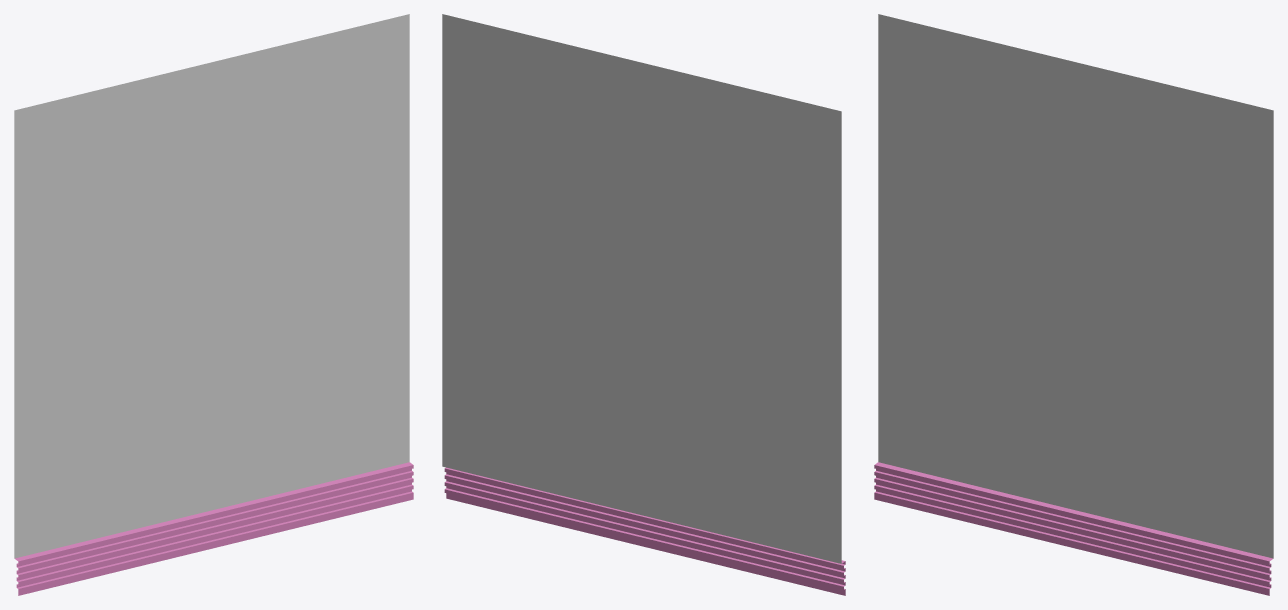
The model's file is Wall4UV.fbx.
3 views of the same model, side by side, from view 1: azimuth 30°, elevation 25°; view 2: azimuth 150°, elevation 25°; view 3: azimuth 330°, elevation 25° (orthographic).
Visible parts, largest first — view 1: Cube.009; view 2: Cube.009; view 3: Cube.009.
Boxes of the visible parts, bbox=[...] form: Cube.009: bbox=[14, 14, 413, 595]; Cube.009: bbox=[442, 14, 845, 595]; Cube.009: bbox=[874, 14, 1273, 595].
Size of the model in its own units: 600 by 700 by 10.24.
